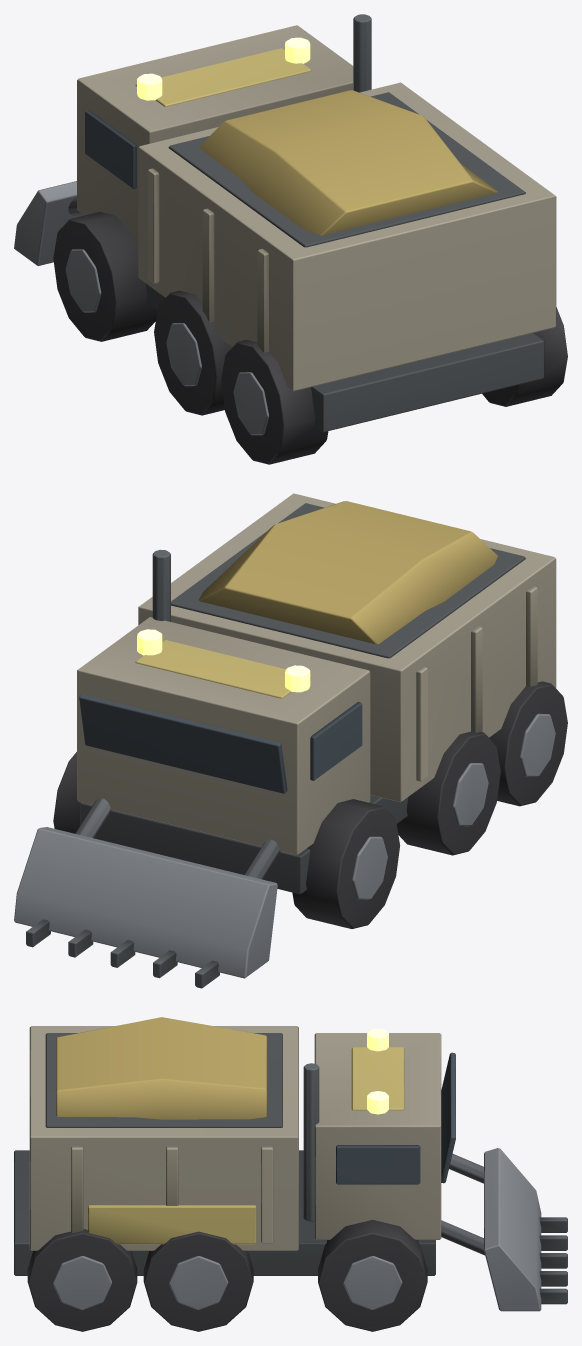
Rendered from harvester.glb.
3 views of the same model, one above another, from view 1: azimuth 30°, elevation 25°; view 2: azimuth 150°, elevation 25°; view 3: azimuth 270°, elevation 25° (orthographic). The views are drawn at different scales.
Visible parts, largest first — view 1: Body; view 2: Body; view 3: Body.
Boxes of the visible parts, x1,y1,x2,y2 form: Body: (14,14,567,464); Body: (14,493,567,988); Body: (14,1017,567,1331).
Size of the model in its own units: 2.74 by 2.6 by 5.25.
